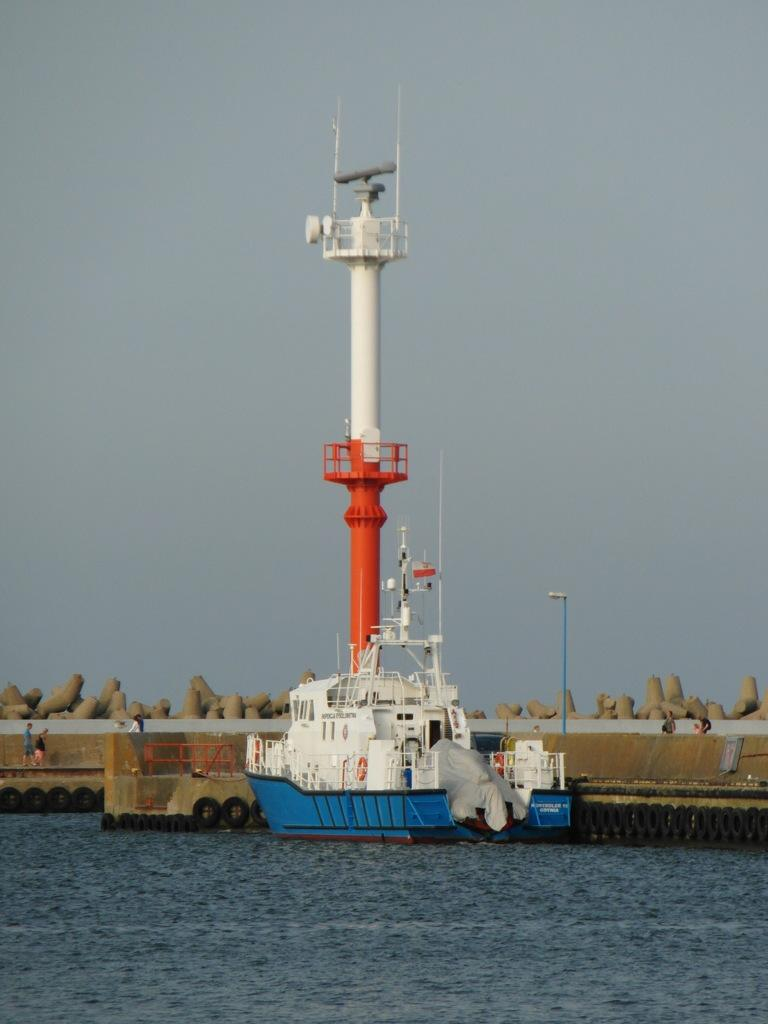PassengerShip: (231, 620, 594, 850)
